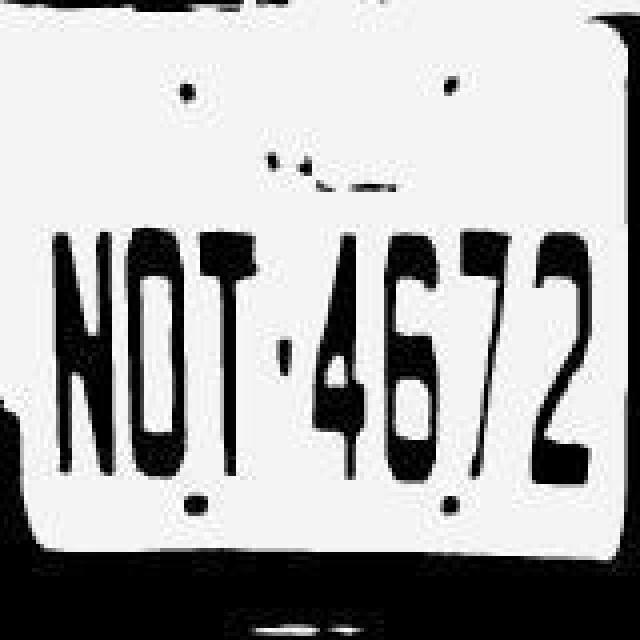2: (520, 218, 600, 494)
4: (302, 226, 370, 486)
6: (374, 222, 442, 490)
7: (452, 220, 516, 484)
N: (38, 210, 122, 486)
O: (122, 202, 198, 486)
T: (198, 220, 266, 484)
